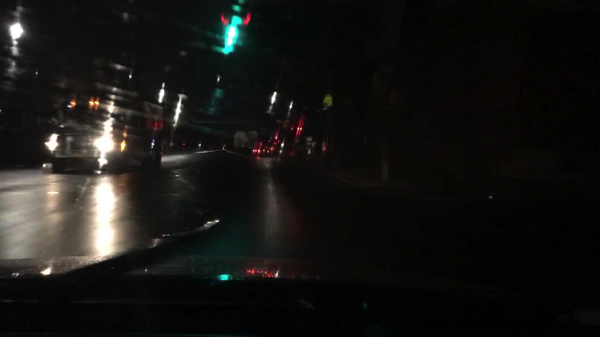car: (43, 93, 166, 172), (277, 130, 316, 164), (181, 137, 201, 151), (320, 141, 328, 154), (261, 146, 271, 156), (217, 141, 227, 150), (270, 145, 279, 154), (267, 137, 275, 145), (252, 146, 261, 153), (168, 139, 173, 151)
traffic light: (228, 15, 242, 53), (216, 11, 226, 54), (243, 13, 253, 54), (212, 88, 224, 99)
traffic sign: (323, 94, 333, 106)
